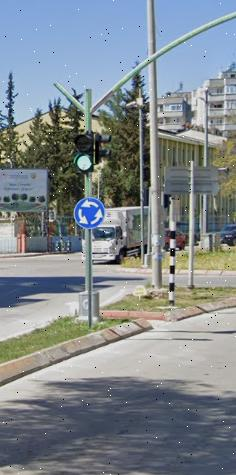crossroads: (75, 196, 107, 230)
greenlight: (75, 129, 99, 177)
